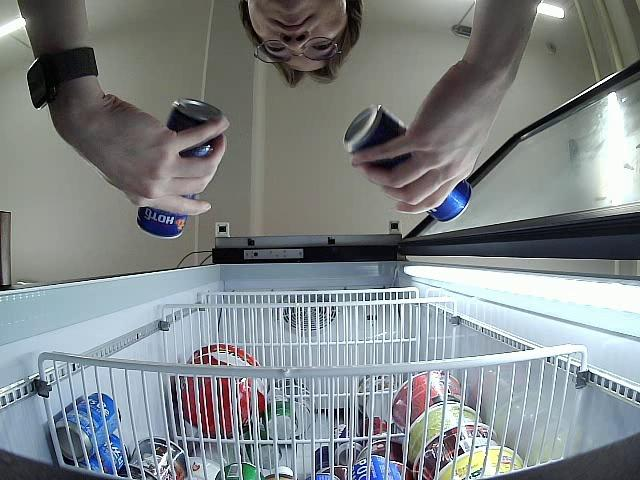00_hand: (350, 59, 509, 214), (67, 95, 229, 215)
16_hot6: (341, 104, 473, 224), (137, 101, 226, 239)
